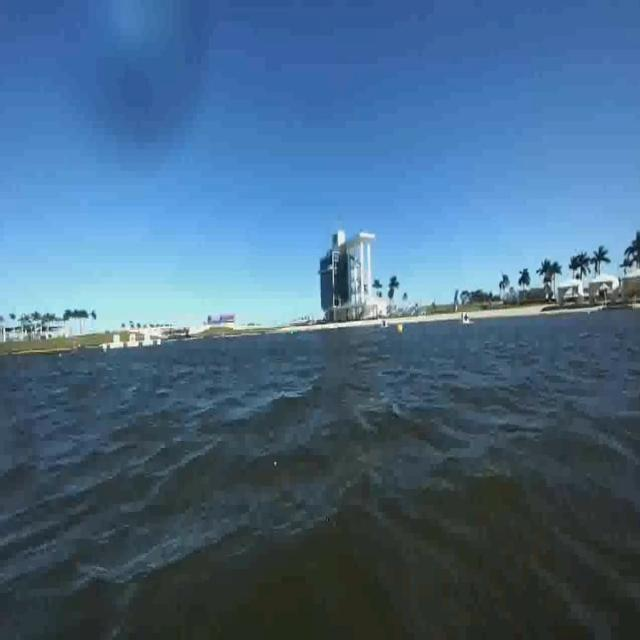yellow-buoy: (396, 322, 404, 335)
